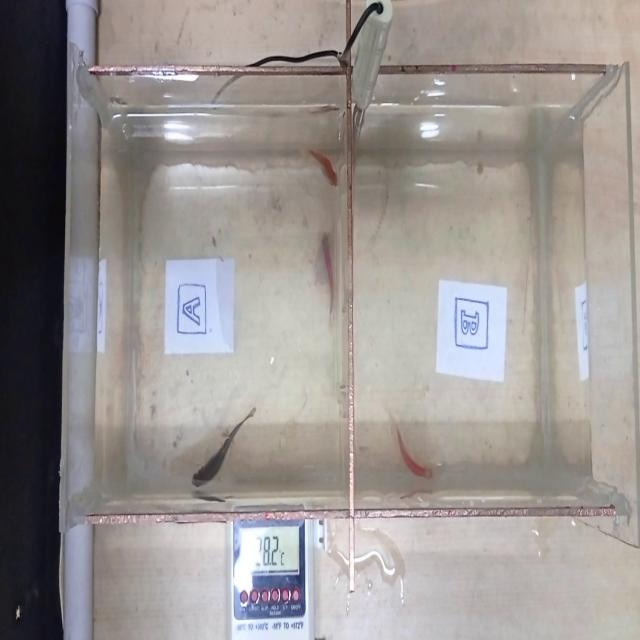Fish A1: (184, 376, 268, 496)
Fish A2: (304, 124, 343, 194)
Fish A3: (315, 221, 342, 332)
Fish B: (382, 389, 443, 488)
